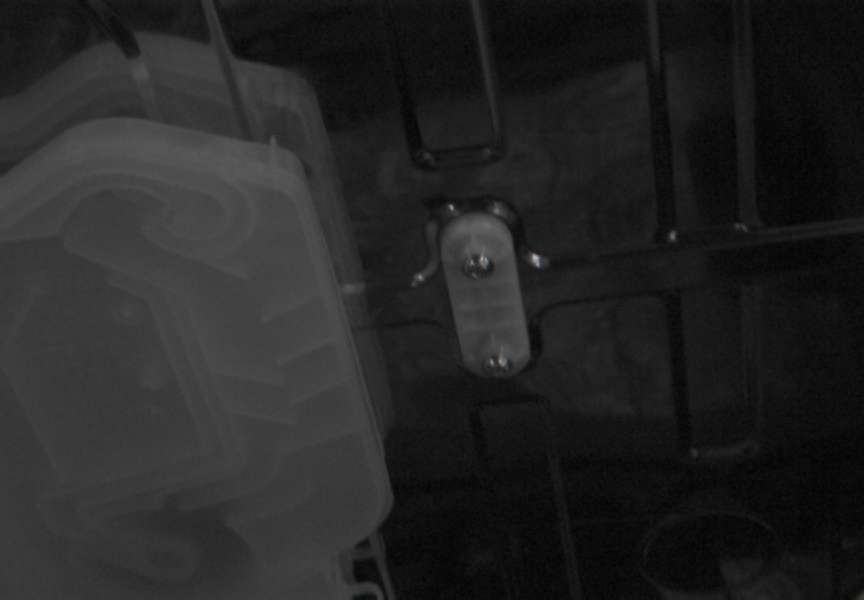screw: (462, 254, 494, 280), (482, 354, 513, 377)
